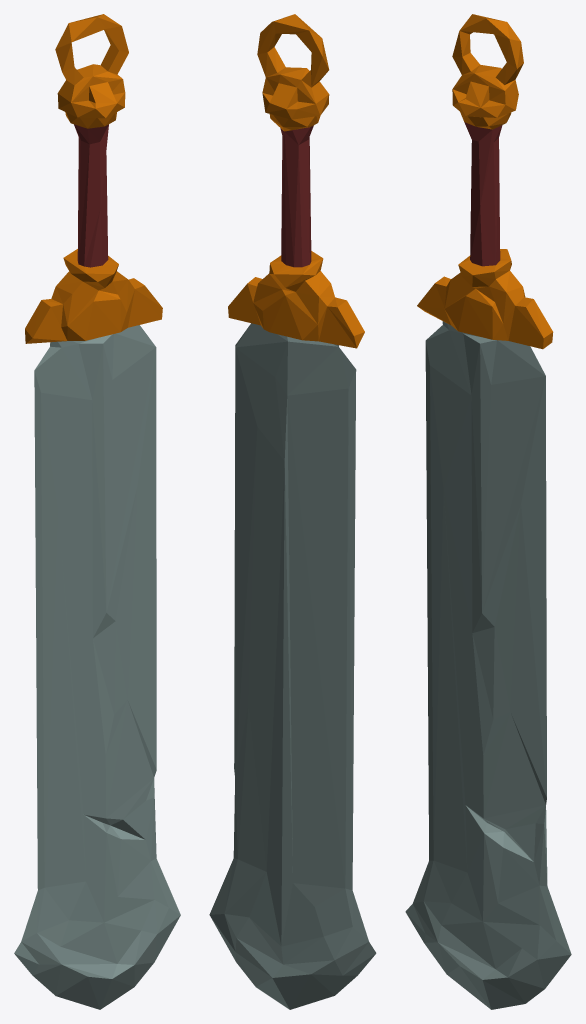
The model's file is MDungeon_Sword_02.FBX.
The picture shows the model from 3 angles, left to right: view 1: azimuth 30°, elevation 25°; view 2: azimuth 150°, elevation 25°; view 3: azimuth 330°, elevation 25°; orthographic projection.
Visible parts, largest first — view 1: MDungeon_Sword_02_LOD0; view 2: MDungeon_Sword_02_LOD0; view 3: MDungeon_Sword_02_LOD0.
Part boxes in pixels (x1,y1,x2,y2): MDungeon_Sword_02_LOD0: (14, 14, 180, 1009); MDungeon_Sword_02_LOD0: (209, 14, 376, 1009); MDungeon_Sword_02_LOD0: (405, 14, 571, 1009).
Size of what is drawn, in the model's own units: 0.212 by 1.21 by 0.0769.
1 material, 1 textured.
